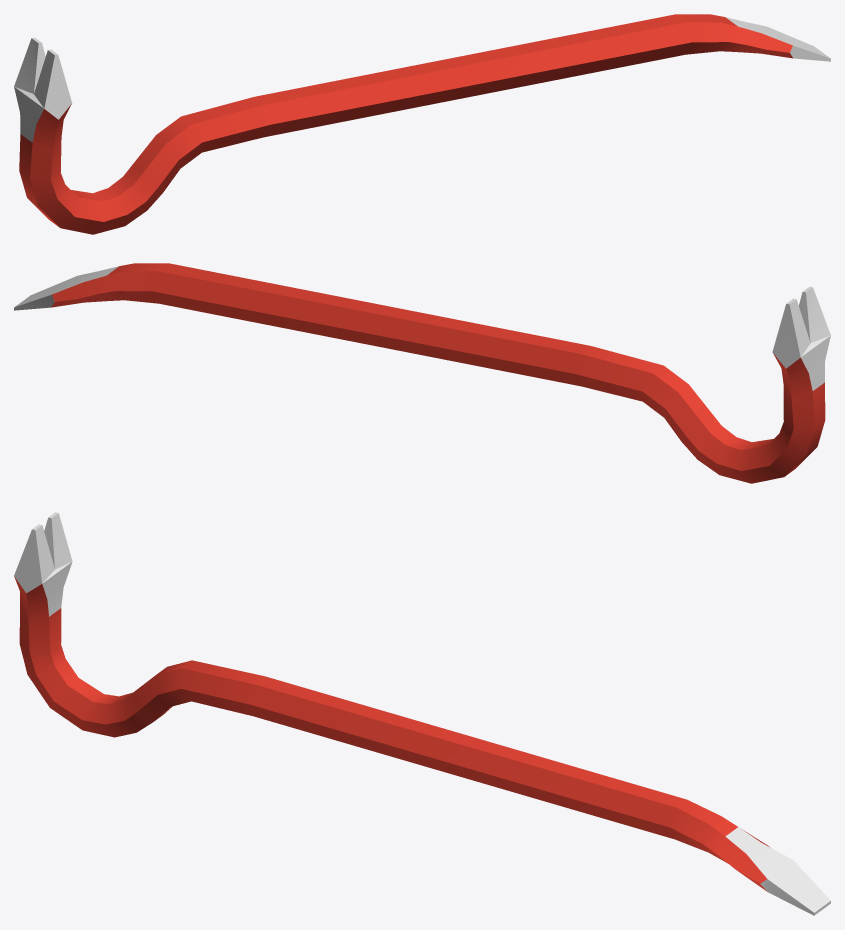
The model's file is crowbar.fbx.
3 views of the same model, one above another, from view 1: azimuth 30°, elevation 25°; view 2: azimuth 150°, elevation 25°; view 3: azimuth 330°, elevation 25° (orthographic).
Visible parts, largest first — view 1: crowbar; view 2: crowbar; view 3: crowbar.
Boxes of the visible parts, x1,y1,x2,y2 form: crowbar: [14, 14, 830, 234]; crowbar: [14, 263, 830, 483]; crowbar: [14, 512, 830, 915].
Bounding box in the file's own units: 118 × 28.08 × 8.37.
